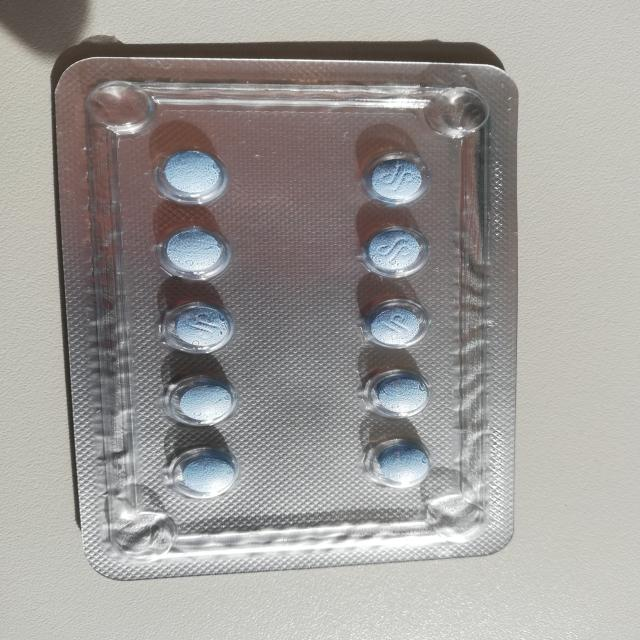Pill: (152, 221, 241, 280), (150, 146, 239, 203), (161, 448, 246, 506), (357, 439, 437, 493), (356, 301, 442, 350), (354, 157, 433, 210), (163, 299, 239, 354), (359, 372, 439, 422), (356, 225, 434, 276), (161, 378, 241, 426)
